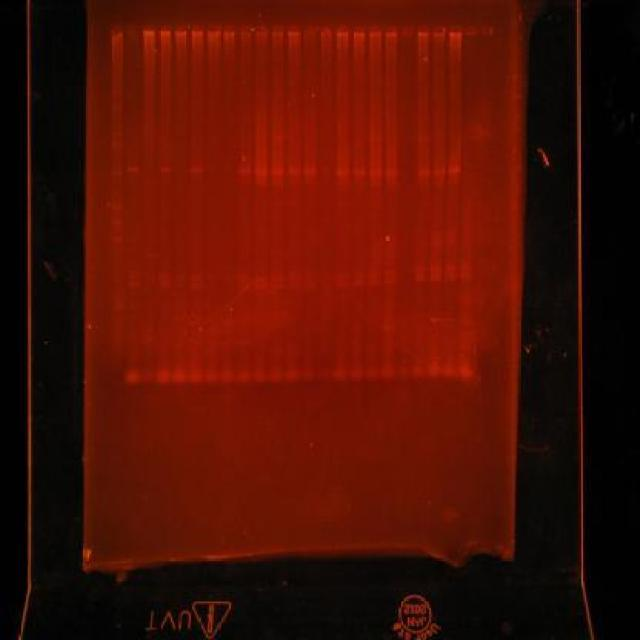B: (254, 165, 268, 178), (384, 167, 400, 178), (368, 167, 383, 178), (334, 167, 352, 176), (286, 272, 302, 282), (382, 320, 395, 332), (417, 167, 431, 178), (352, 167, 366, 178), (270, 167, 284, 178), (269, 273, 285, 282), (334, 280, 350, 289), (236, 273, 252, 282), (414, 266, 428, 276), (172, 272, 186, 282), (459, 262, 472, 272), (286, 282, 302, 290), (432, 167, 446, 176), (287, 167, 301, 176), (303, 167, 317, 176), (428, 264, 442, 273), (236, 283, 250, 292), (254, 273, 268, 282), (254, 283, 268, 292), (368, 268, 380, 278), (447, 166, 461, 174), (126, 273, 140, 281), (428, 274, 442, 282), (382, 278, 396, 286), (382, 269, 396, 277), (368, 278, 382, 286), (336, 272, 350, 280), (190, 273, 202, 282), (126, 165, 139, 173), (158, 165, 171, 173), (239, 167, 252, 175), (158, 272, 171, 280), (158, 280, 171, 288), (459, 272, 472, 280), (352, 279, 365, 287), (352, 272, 365, 280), (172, 282, 185, 290), (190, 166, 202, 174), (128, 282, 140, 290), (190, 282, 202, 290), (414, 275, 426, 283), (446, 264, 456, 273), (270, 283, 284, 289), (446, 273, 456, 281), (222, 166, 235, 172)
L: (107, 19, 495, 41), (108, 21, 125, 388)
P: (111, 326, 124, 344), (110, 200, 124, 214), (110, 236, 124, 244), (110, 169, 124, 177), (111, 220, 122, 228), (112, 302, 123, 310), (110, 132, 124, 138), (111, 141, 122, 147)
Pc: (253, 23, 270, 37), (206, 23, 222, 37), (334, 23, 350, 37), (431, 25, 447, 38), (174, 24, 188, 38), (238, 22, 252, 36), (384, 24, 398, 38), (352, 24, 366, 38), (318, 22, 332, 36), (302, 22, 316, 36), (286, 23, 300, 37), (270, 23, 284, 37), (400, 24, 414, 38), (222, 24, 235, 38), (416, 24, 429, 38), (368, 25, 382, 38), (190, 24, 204, 36), (126, 24, 140, 36), (142, 23, 156, 34), (158, 23, 172, 34), (448, 26, 463, 36), (110, 26, 124, 36), (464, 26, 478, 36), (481, 26, 494, 36)
